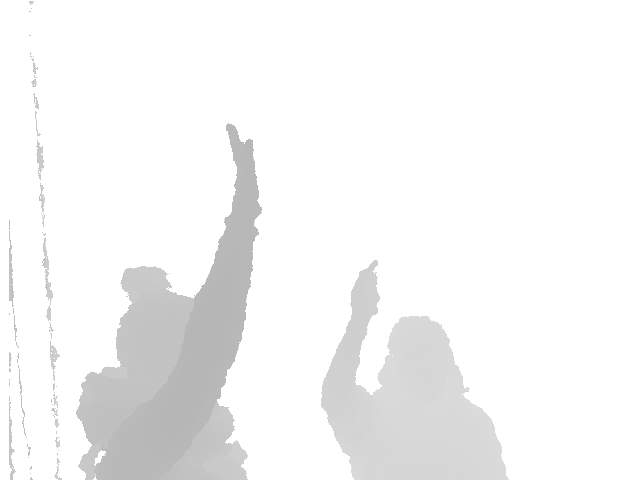hand: (220, 121, 263, 198), (348, 255, 384, 326)
head: (113, 266, 199, 386), (376, 315, 466, 402)
person: (74, 123, 259, 480), (315, 253, 512, 480)
